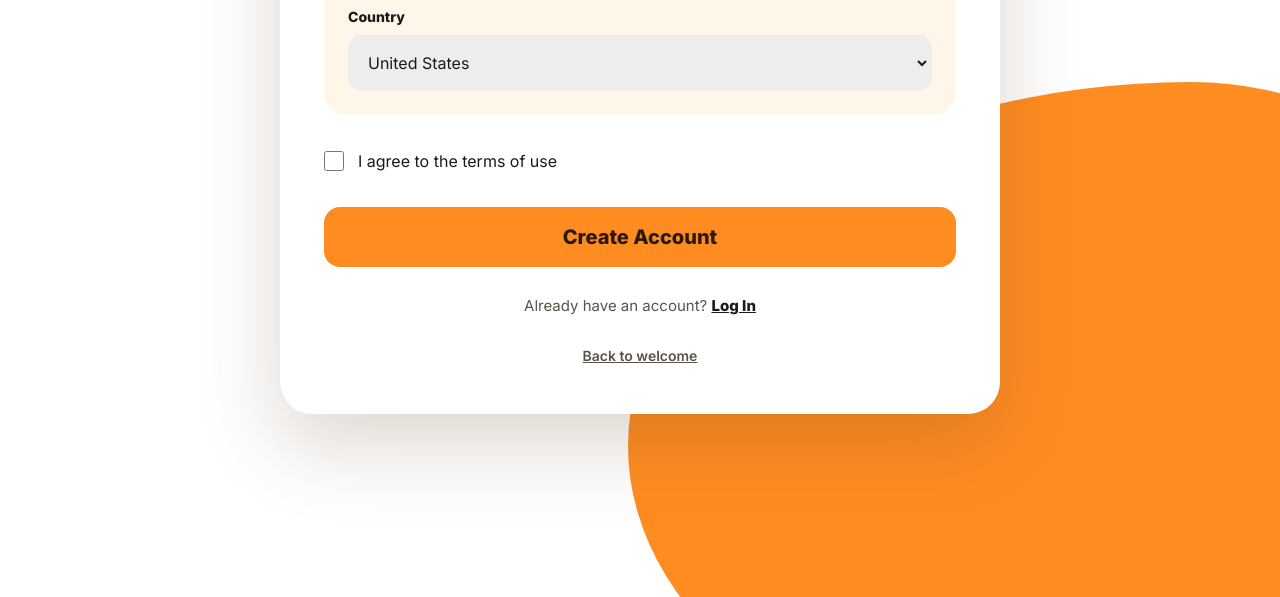
Scenario: App routing › shows validation errors when submitting an empty registration form
The width and height of the screenshot is (1280, 597).
(page scrolled)
What coordinates should you click on to do the following:
click the button "Create Account"
I would click on:
 (640, 237)
Its box is 324,207 -> 956,267.
(page scrolled)
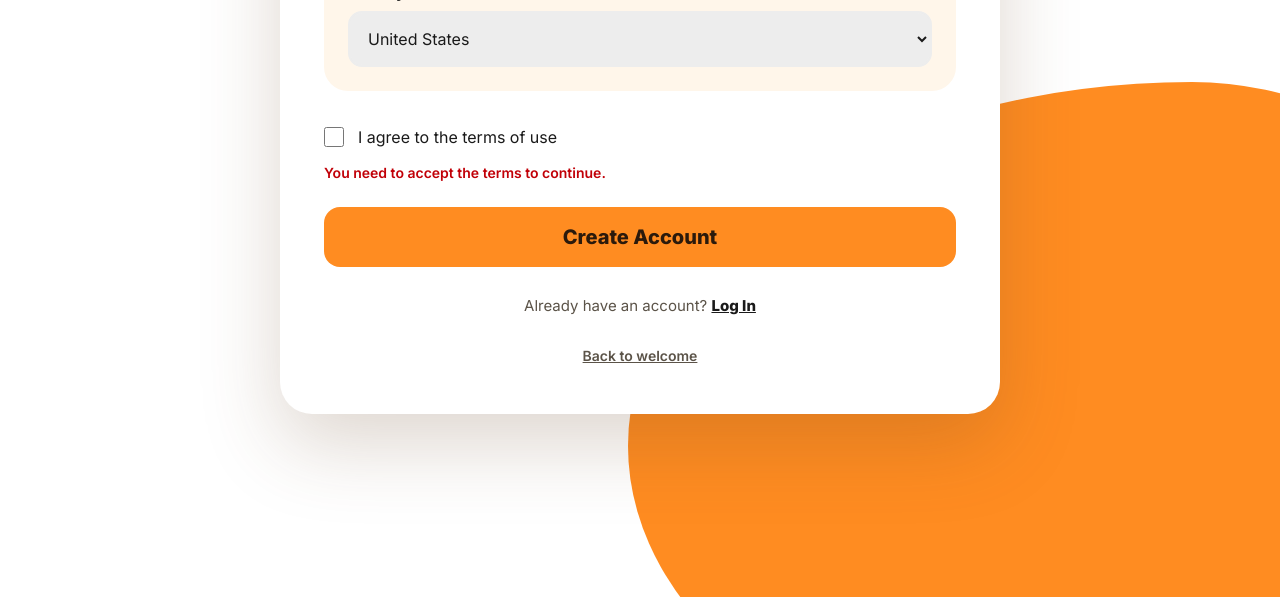
Now the text "You need to accept the terms to continue." is shown, box 324,164 -> 606,181
